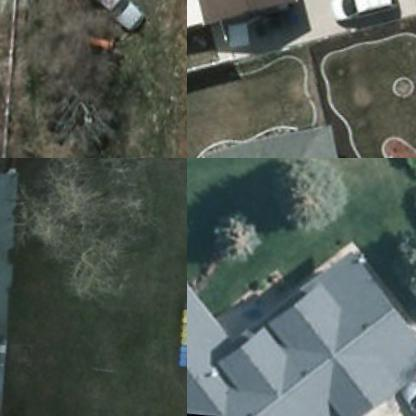car: (67, 0, 147, 38), (321, 0, 399, 32), (388, 376, 415, 415), (94, 158, 140, 170)
